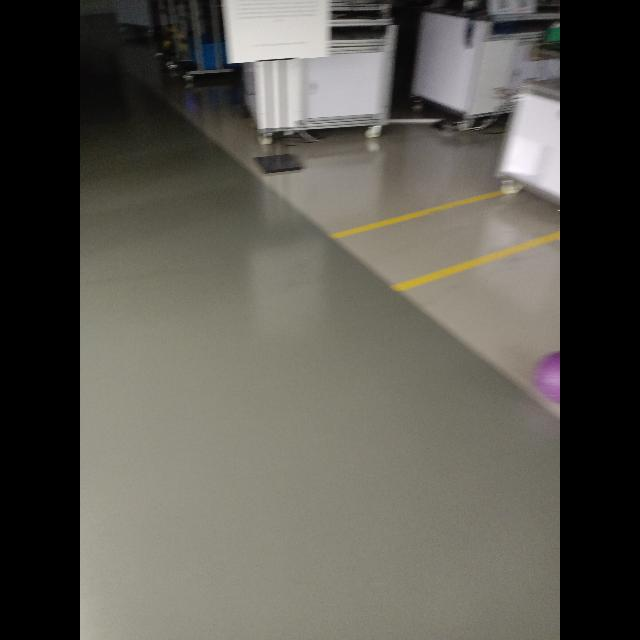P: (532, 349, 560, 408)
